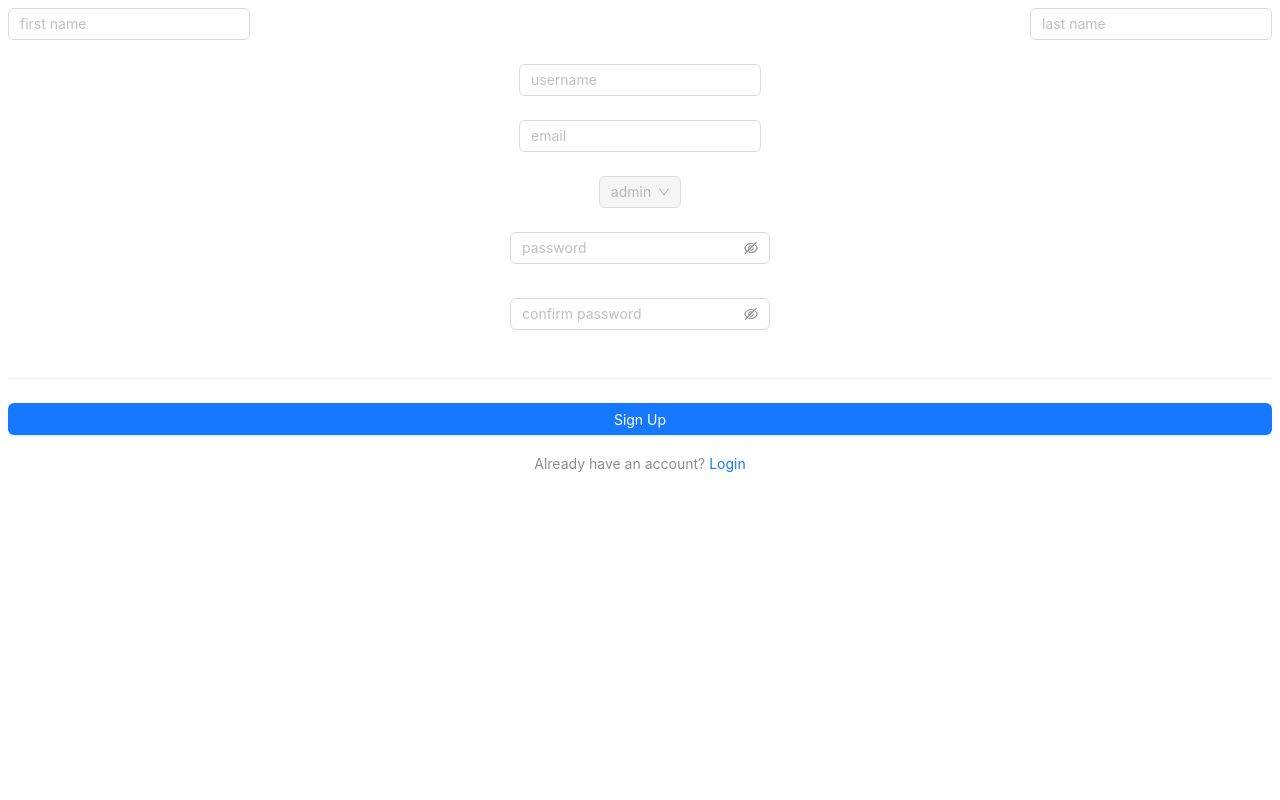
Test: RegistrationForm › shows password requirements when typing password
Type "abc" into the password field with placeholder "password" at x=631, y=248, box [522,237,740,259]
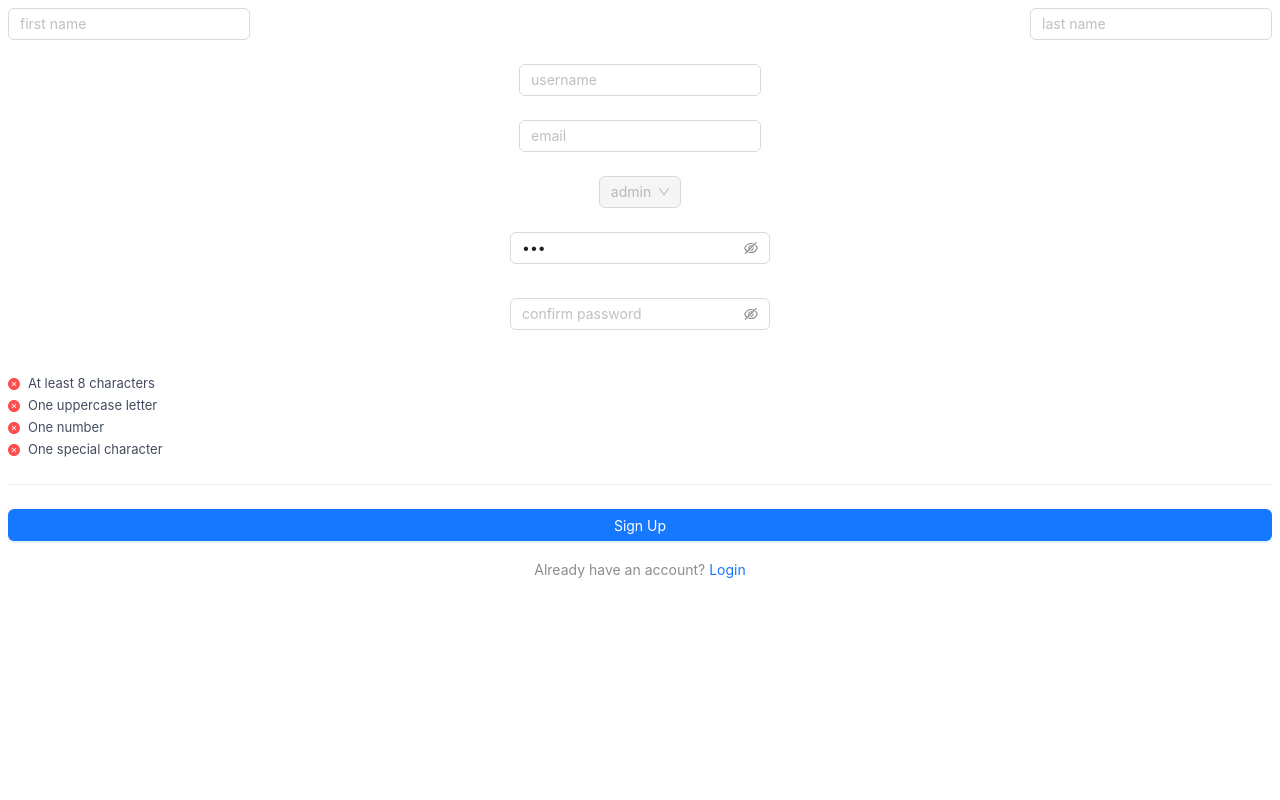
Result: the text "At least 8 characters" is shown at [28,375,155,391]
Result: the text "One uppercase letter" is shown at [28,397,157,413]
Result: the text "One number" is shown at [28,419,104,435]
